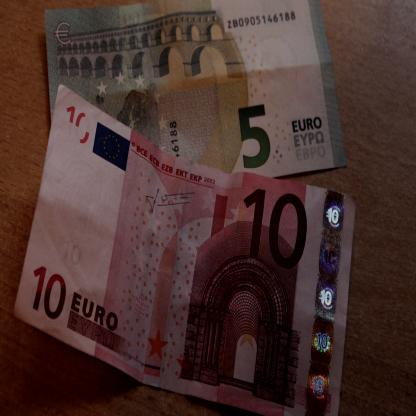euro_banknote: (27, 124, 375, 378), (48, 6, 346, 180)
